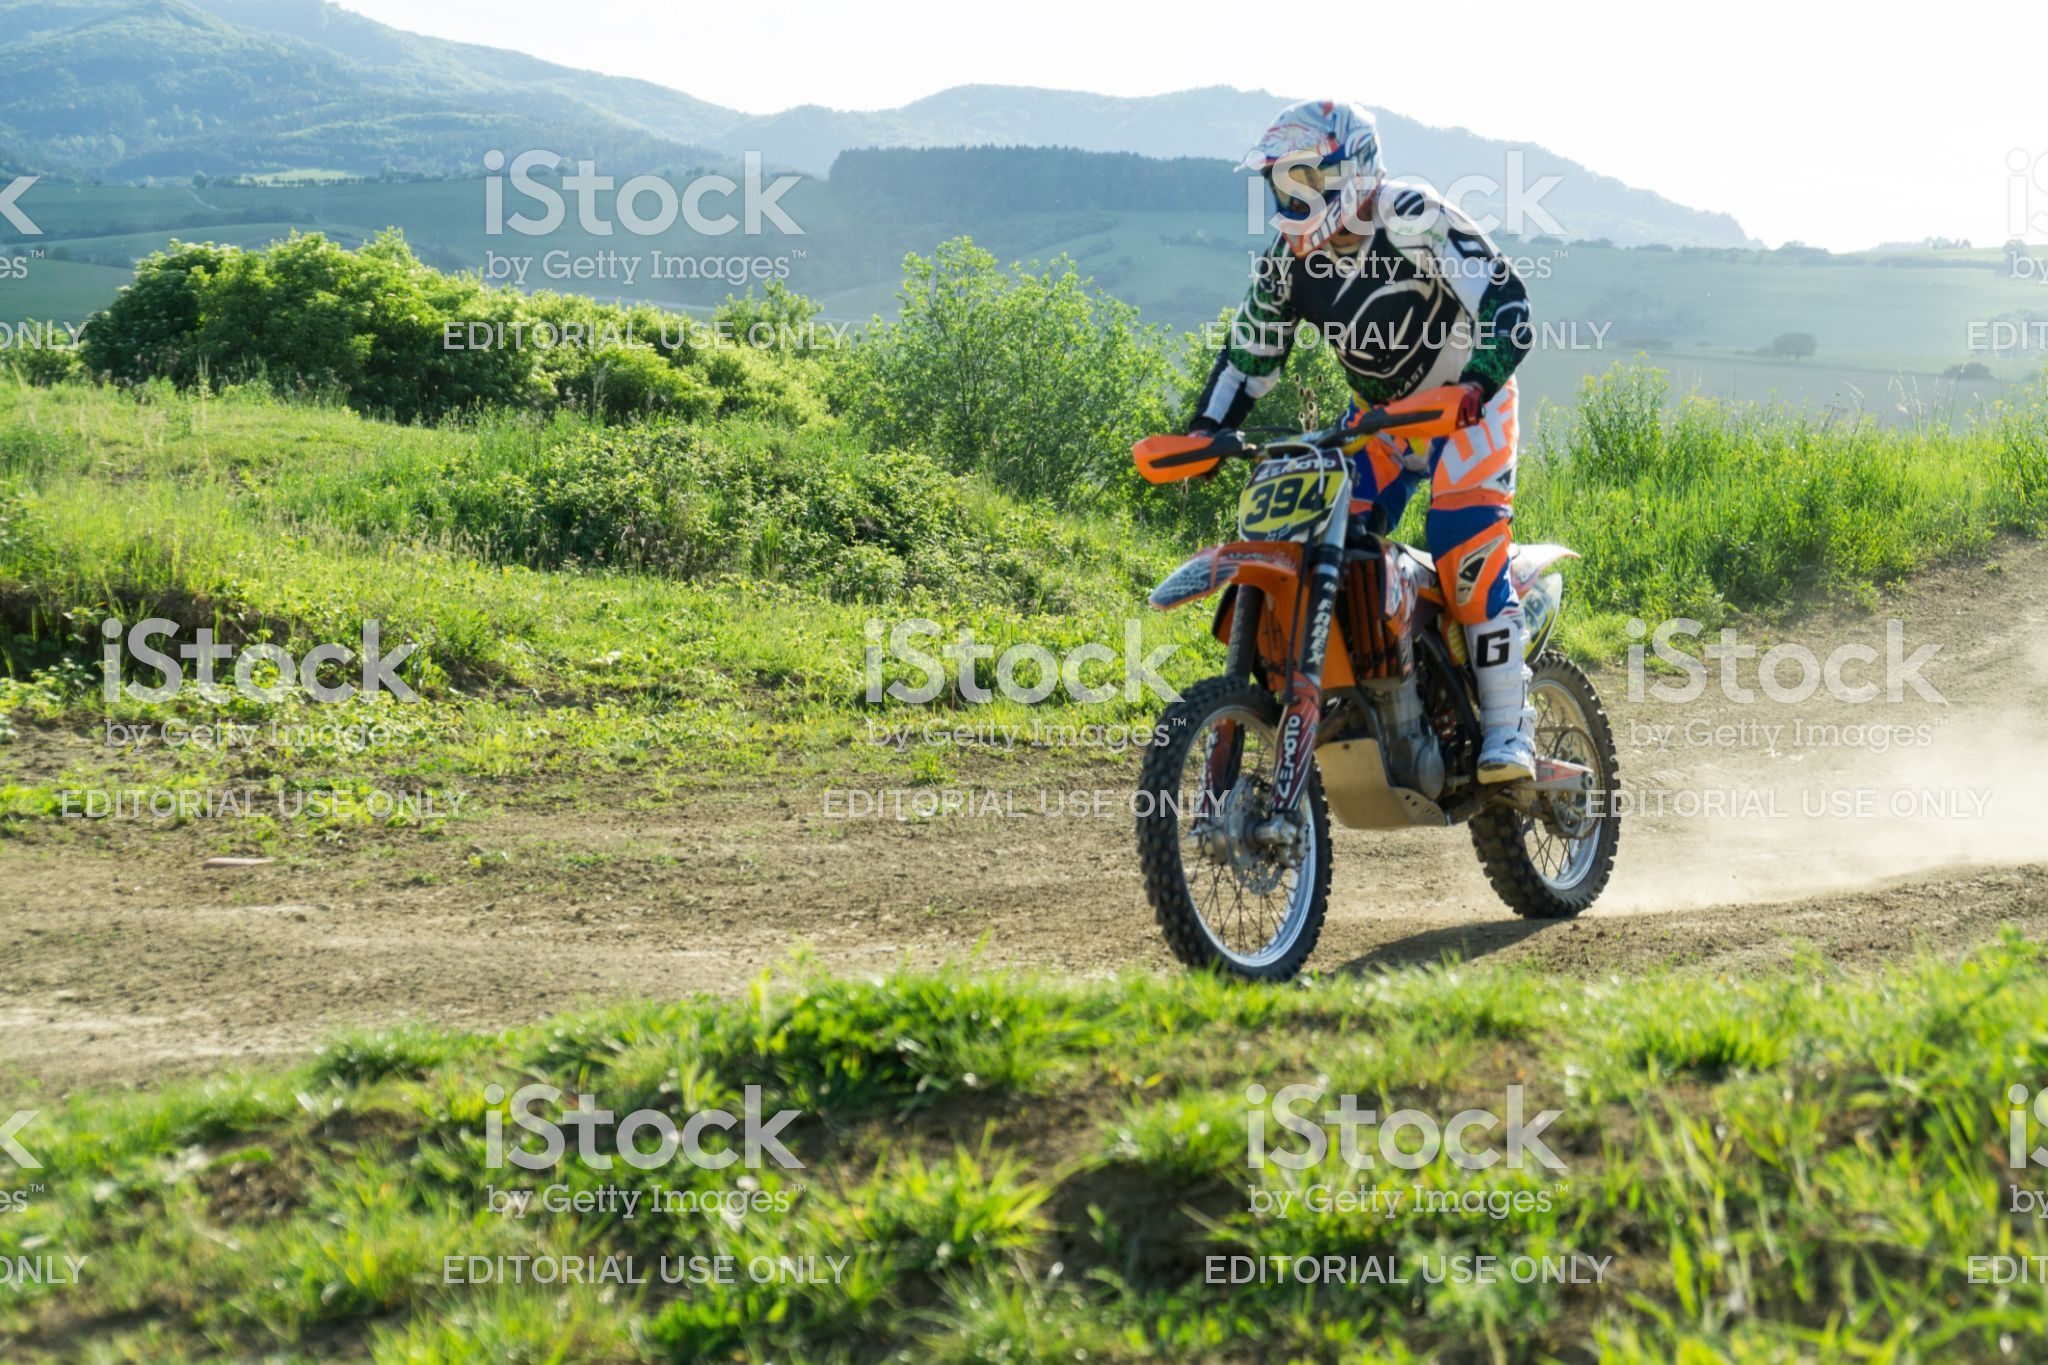helmet: (1238, 90, 1369, 244)
